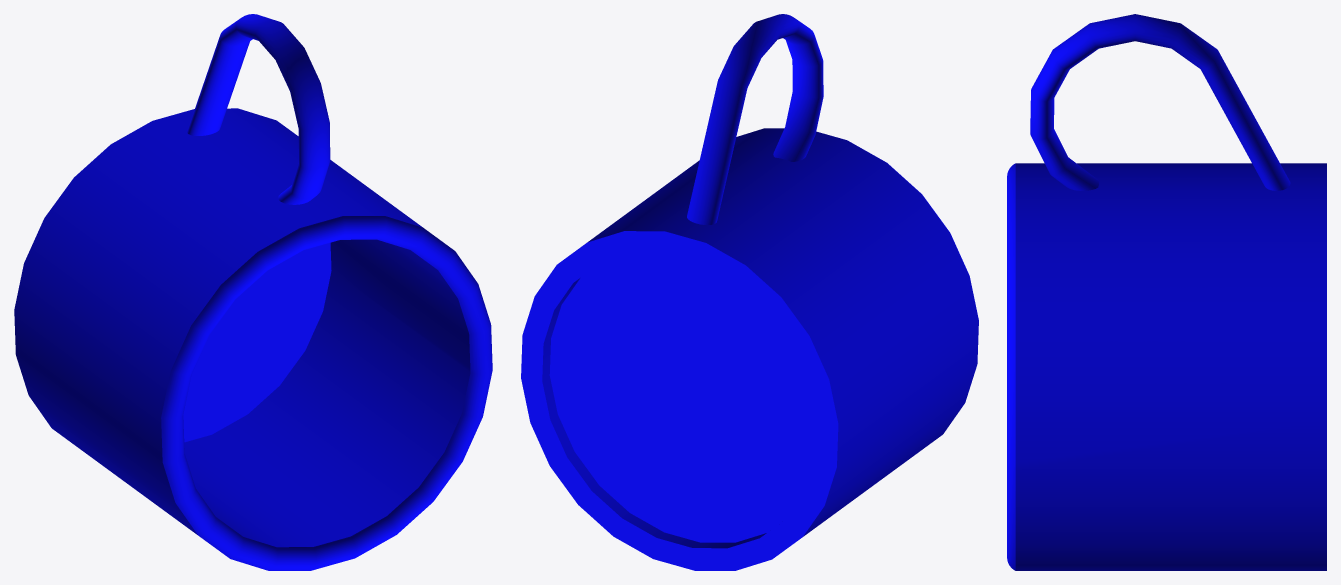
Rendered from model_align.obj.
3 views of the same model, side by side, from view 1: azimuth 30°, elevation 25°; view 2: azimuth 150°, elevation 25°; view 3: azimuth 270°, elevation 25° (orthographic). The views are drawn at different scales.
Parts seen in each view (by area): view 1: mesh1_mesh1-geometry, mesh2_mesh2-geometry; view 2: mesh1_mesh1-geometry, mesh2_mesh2-geometry; view 3: mesh1_mesh1-geometry, mesh2_mesh2-geometry.
Part boxes in pixels (x1,y1,x2,y2): mesh1_mesh1-geometry: (14, 108, 492, 570); mesh2_mesh2-geometry: (187, 14, 330, 204); mesh1_mesh1-geometry: (521, 128, 978, 570); mesh2_mesh2-geometry: (687, 14, 823, 225); mesh1_mesh1-geometry: (1007, 163, 1326, 570); mesh2_mesh2-geometry: (1030, 14, 1290, 190).
Size of the model in its own units: 0.0903 by 0.1312 by 0.0712.
